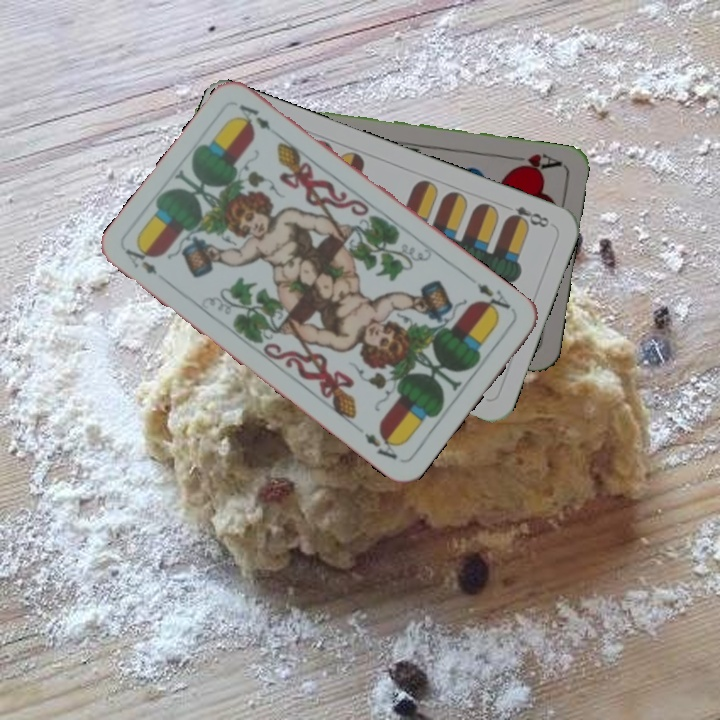E8: (503, 202, 552, 230)
EA: (121, 241, 172, 286), (466, 275, 514, 319)
HA: (504, 149, 564, 176)
